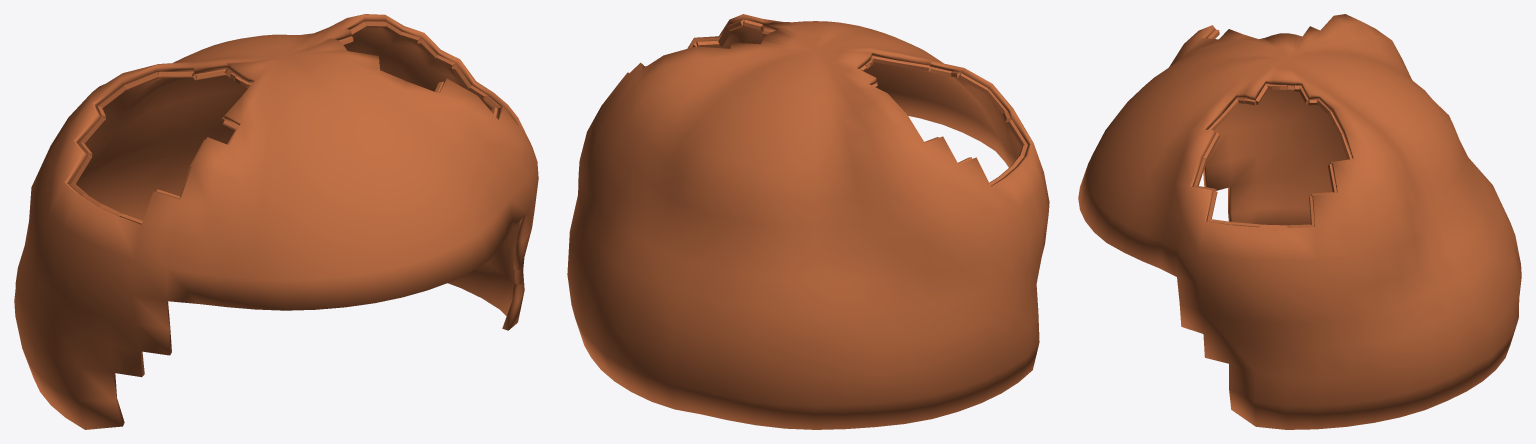
The model's file is Helm_ROUND.fbx.
3 renders of one model, left to right at view 1: azimuth 30°, elevation 25°; view 2: azimuth 150°, elevation 25°; view 3: azimuth 270°, elevation 25°, orthographic. The views are drawn at different scales.
Visible parts, largest first — view 1: Helm_ROUND; view 2: Helm_ROUND; view 3: Helm_ROUND.
Part boxes in pixels (x1,y1,x2,y2): Helm_ROUND: [14, 14, 538, 429]; Helm_ROUND: [567, 14, 1049, 429]; Helm_ROUND: [1078, 14, 1521, 429].
Bounding box in the file's own units: 0.6593 × 0.4194 × 0.6046.
